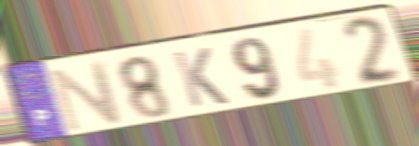2: (342, 12, 406, 92)
4: (295, 26, 343, 90)
8: (116, 53, 173, 120)
9: (231, 34, 285, 102)
K: (169, 46, 232, 110)
N: (46, 58, 126, 134)
